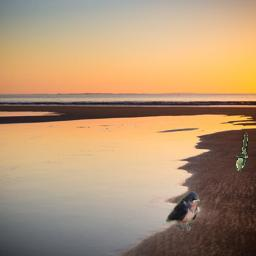Cuckoo: (236, 132, 248, 171)
Swallow: (166, 191, 200, 231)
